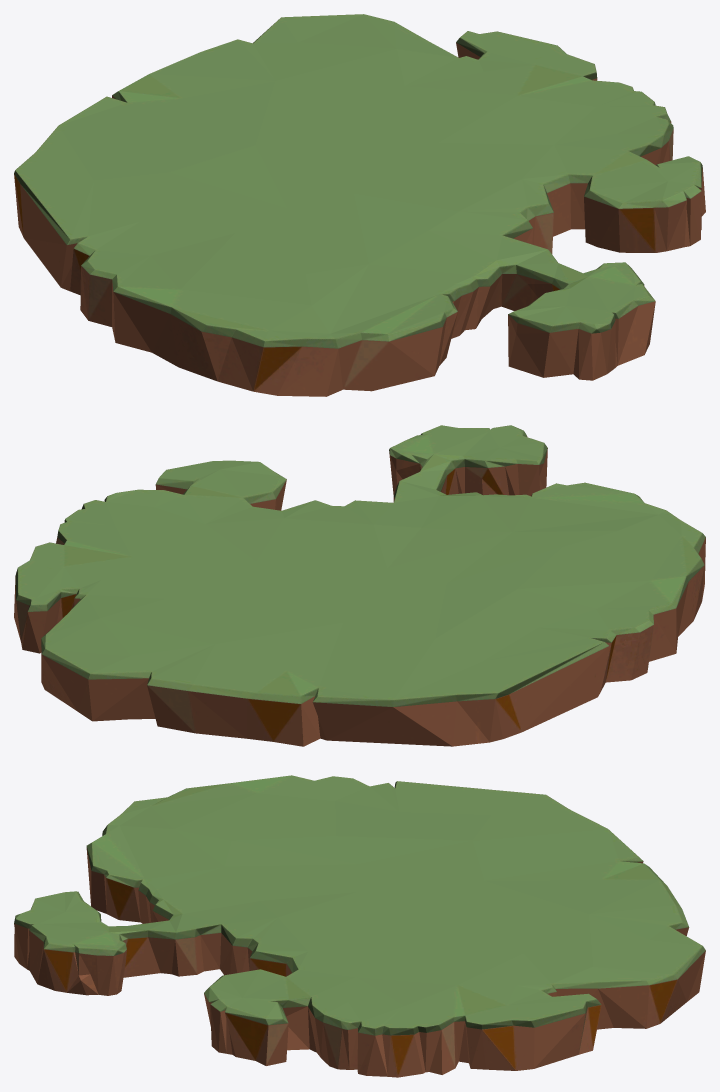
Rendered from island.fbx.
3 renders of one model, top to bottom at view 1: azimuth 30°, elevation 25°; view 2: azimuth 150°, elevation 25°; view 3: azimuth 270°, elevation 25°, orthographic. The views are drawn at different scales.
Parts seen in each view (by area): view 1: root; view 2: root; view 3: root.
Boxes of the visible parts, x1,y1,x2,y2 form: root: (14, 14, 705, 396); root: (14, 425, 705, 746); root: (14, 775, 705, 1077).
Bounding box in the file's own units: 0.512 × 0.0446 × 0.5828.
Materials: 1 (1 with a texture image).
